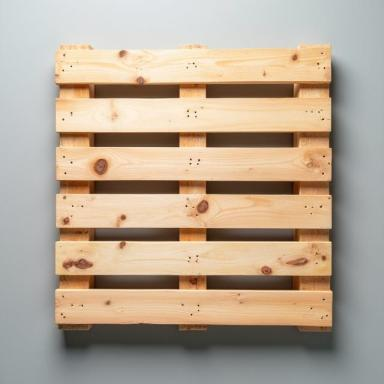pallet: (55, 44, 333, 332)
